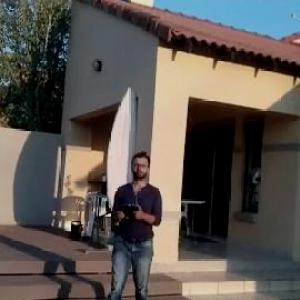follow: (99, 143, 165, 299)
